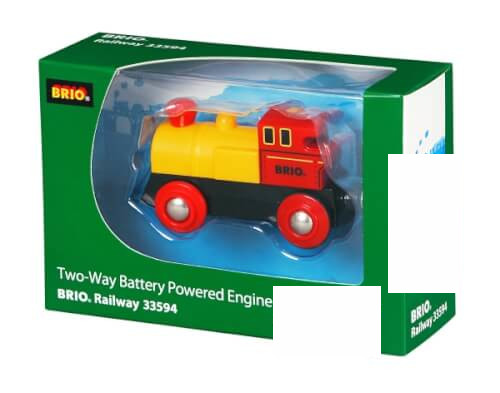brio: (143, 95, 357, 253)
